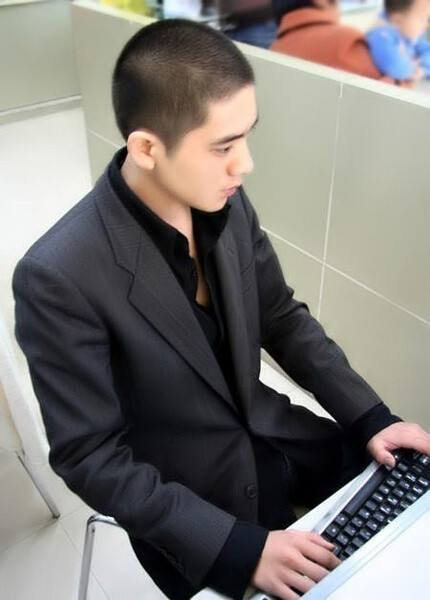person: (51, 36, 386, 396)
